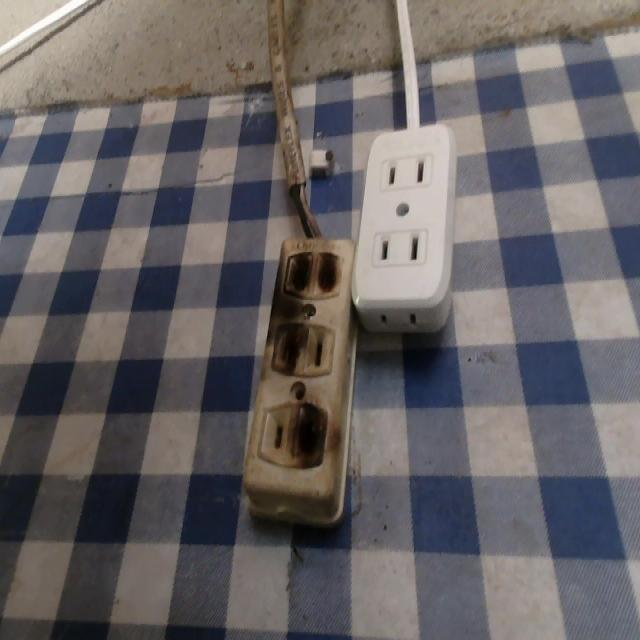-: (276, 242, 347, 302), (290, 395, 333, 476), (267, 316, 314, 380)
